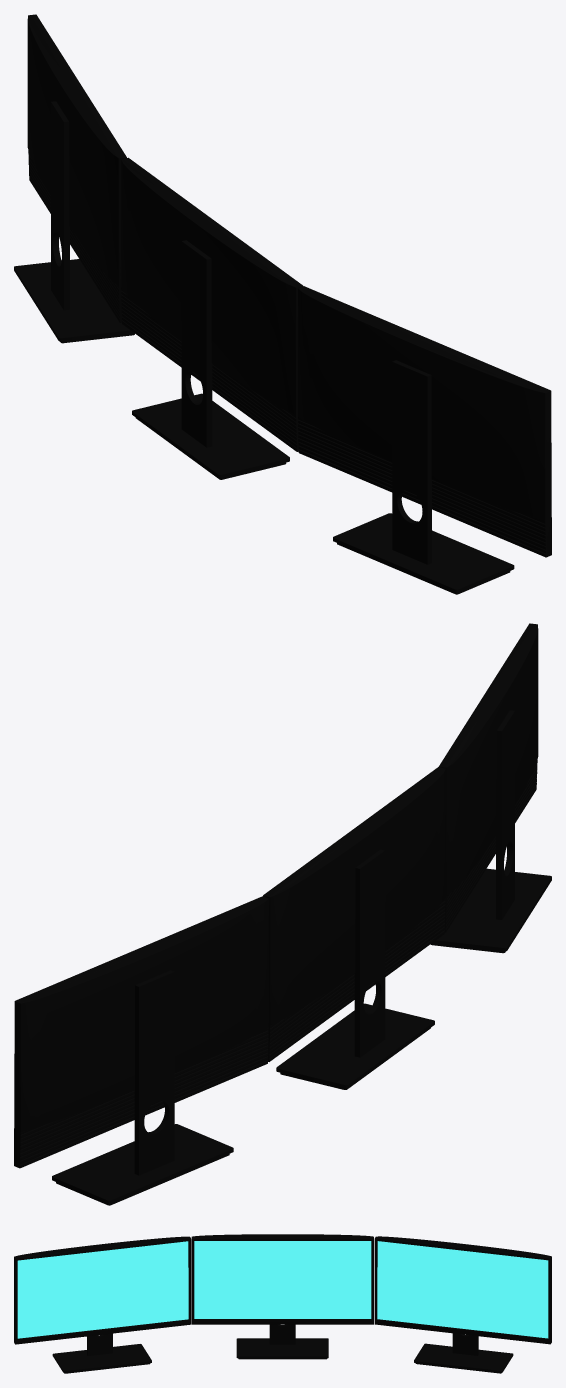
File: monitor_triple.glb
3 views of the same model, one above another, from view 1: azimuth 30°, elevation 25°; view 2: azimuth 150°, elevation 25°; view 3: azimuth 270°, elevation 25° (orthographic). The views are drawn at different scales.
Visible parts, largest first — view 1: Cube.007, Cube.010, Cube.013, Cube.006, Cube.012, Cube.009; view 2: Cube.013, Cube.010, Cube.007, Cube.009, Cube.012, Cube.006; view 3: Cube.011, Cube.014, Cube.008, Cube.007, Cube.013, Cube.010, Cube.012, Cube.009, Cube.006.
Part boxes in pixels (x1,y1,x2,y2): Cube.007: [298, 286, 551, 557]; Cube.010: [121, 157, 302, 451]; Cube.013: [27, 14, 126, 322]; Cube.006: [333, 360, 514, 594]; Cube.012: [132, 240, 289, 479]; Cube.009: [14, 101, 134, 343]; Cube.013: [14, 896, 268, 1168]; Cube.010: [263, 767, 445, 1061]; Cube.007: [438, 623, 538, 932]; Cube.009: [52, 970, 233, 1205]; Cube.012: [276, 849, 434, 1089]; Cube.006: [430, 710, 551, 953]; Cube.011: [194, 1241, 371, 1318]; Cube.014: [377, 1241, 548, 1338]; Cube.008: [17, 1241, 188, 1338]; Cube.007: [14, 1236, 191, 1344]; Cube.013: [374, 1236, 551, 1344]; Cube.010: [191, 1234, 373, 1324]; Cube.012: [236, 1324, 328, 1359]; Cube.009: [414, 1333, 513, 1373]; Cube.006: [52, 1333, 151, 1373].
Bounding box in the file's own units: 0.2028 × 0.3275 × 1.41.
